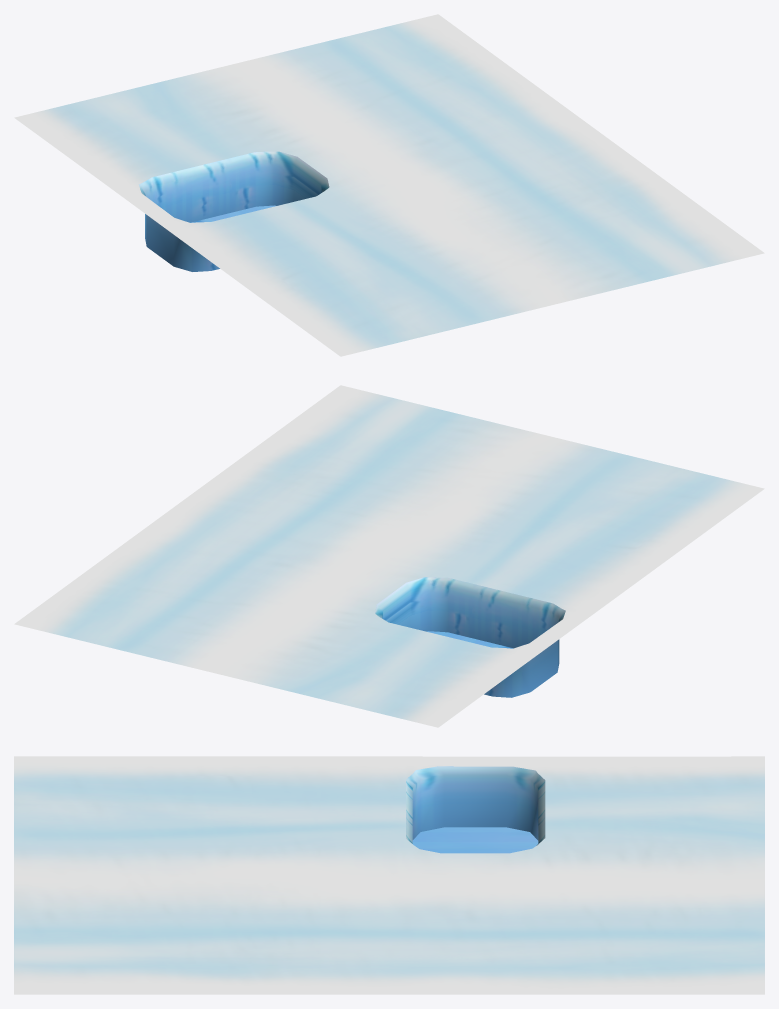
Rendered from Hole_M_Size_05.FBX.
3 views of the same model, one above another, from view 1: azimuth 30°, elevation 25°; view 2: azimuth 150°, elevation 25°; view 3: azimuth 270°, elevation 25° (orthographic). The views are drawn at different scales.
Visible parts, largest first — view 1: modelRoad072; view 2: modelRoad072; view 3: modelRoad072.
Boxes of the visible parts, bbox=[...] form: modelRoad072: bbox=[14, 14, 764, 356]; modelRoad072: bbox=[14, 385, 764, 727]; modelRoad072: bbox=[14, 756, 764, 994].
Bounding box in the file's own units: 600 × 70 × 800.
